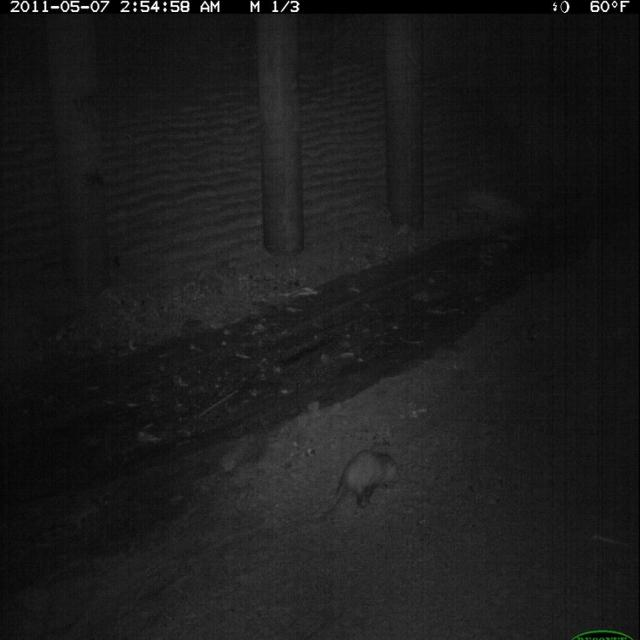opossum: (315, 446, 405, 528)
